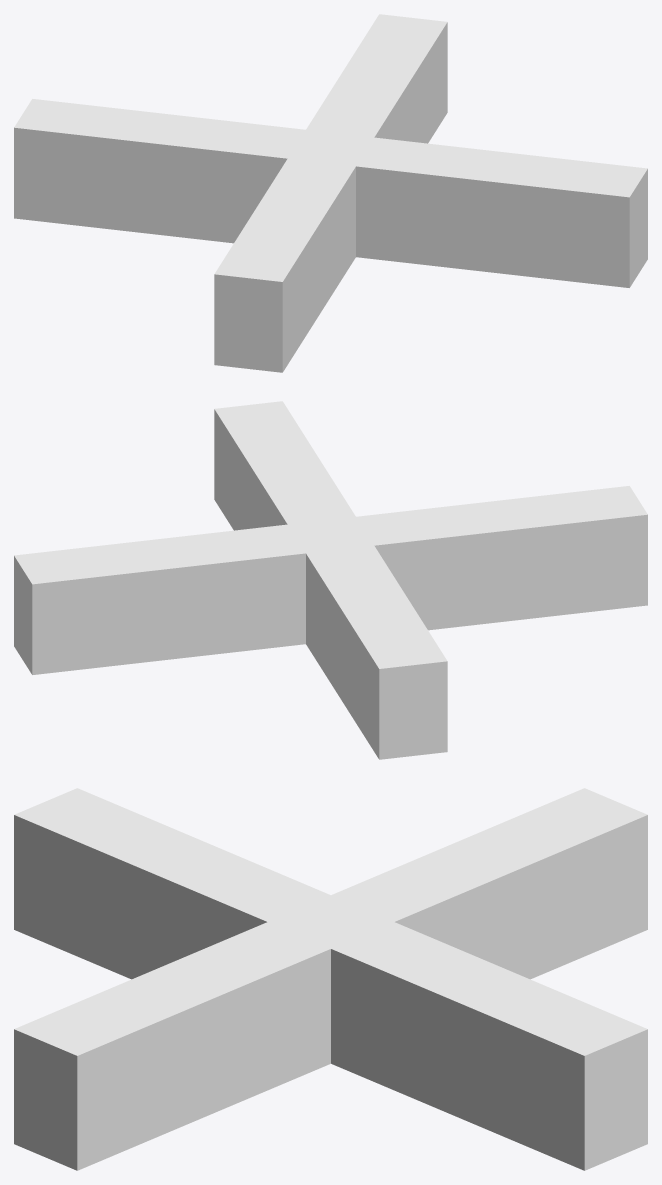
File: Cross.fbx
The picture shows the model from 3 angles, top to bottom: view 1: azimuth 30°, elevation 25°; view 2: azimuth 150°, elevation 25°; view 3: azimuth 270°, elevation 25°; orthographic projection. The views are drawn at different scales.
Visible parts, largest first — view 1: Cross; view 2: Cross; view 3: Cross.
Part boxes in pixels (x1,y1,x2,y2): Cross: (14,14,647,372); Cross: (14,401,647,759); Cross: (14,788,647,1170).
Size of the model in its own units: 62.5 by 12.5 by 62.5.
1 material, 1 textured.
